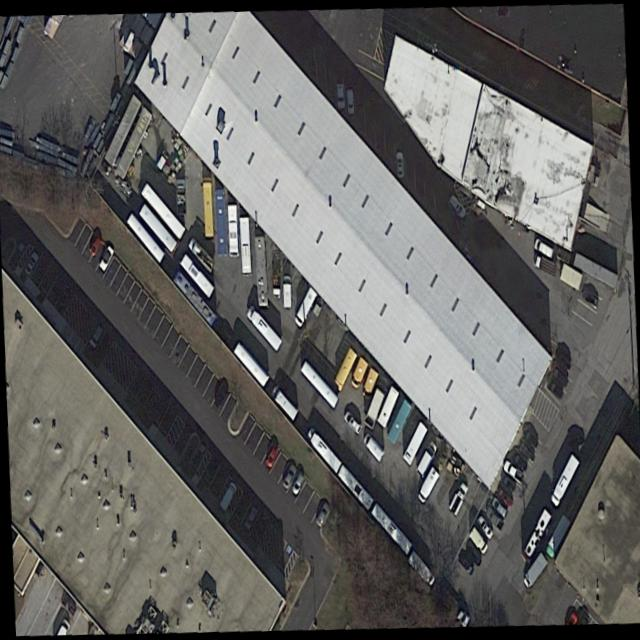large-vehicle: (140, 182, 188, 241), (372, 504, 414, 555), (127, 211, 166, 265), (138, 204, 178, 254), (246, 304, 284, 352), (549, 453, 581, 509), (301, 360, 339, 407), (338, 465, 374, 514), (307, 426, 343, 475), (234, 341, 271, 385), (180, 253, 214, 296), (545, 514, 572, 560), (387, 397, 412, 446), (403, 421, 429, 467), (332, 346, 358, 392), (271, 383, 300, 424), (188, 235, 217, 276), (408, 550, 437, 588), (522, 551, 549, 591), (377, 385, 401, 429), (294, 287, 317, 330), (364, 386, 386, 430), (215, 189, 229, 256), (417, 467, 440, 504), (417, 440, 438, 478), (350, 354, 371, 391), (203, 177, 215, 239), (241, 217, 253, 276), (227, 203, 239, 257), (362, 366, 380, 400), (365, 435, 385, 462), (272, 253, 281, 298), (283, 275, 293, 310)
small-vehicle: (448, 480, 471, 518), (467, 525, 490, 558), (218, 480, 238, 513), (502, 458, 524, 487), (533, 252, 557, 278), (484, 505, 504, 535), (343, 409, 363, 438), (533, 236, 556, 261), (476, 513, 495, 542), (448, 192, 467, 221), (98, 244, 116, 273), (550, 364, 569, 390), (213, 384, 230, 413), (314, 500, 331, 529), (517, 440, 536, 465), (282, 462, 298, 491), (464, 542, 482, 567), (510, 450, 528, 475), (521, 427, 539, 452), (263, 442, 279, 470), (290, 472, 307, 498), (457, 552, 475, 576), (546, 377, 564, 401), (555, 347, 572, 372), (491, 495, 508, 520), (244, 505, 259, 533), (581, 288, 599, 311), (501, 473, 519, 496), (496, 486, 513, 510), (25, 252, 41, 277), (90, 326, 105, 350), (394, 150, 405, 180), (89, 235, 102, 258), (345, 89, 356, 116), (337, 83, 346, 109)
